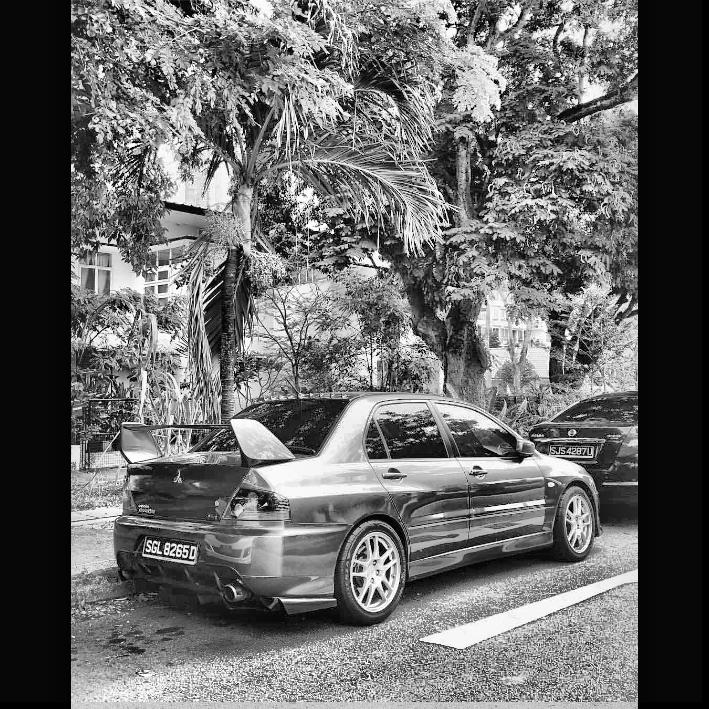License-Plates: (143, 539, 197, 561), (549, 446, 592, 456)
